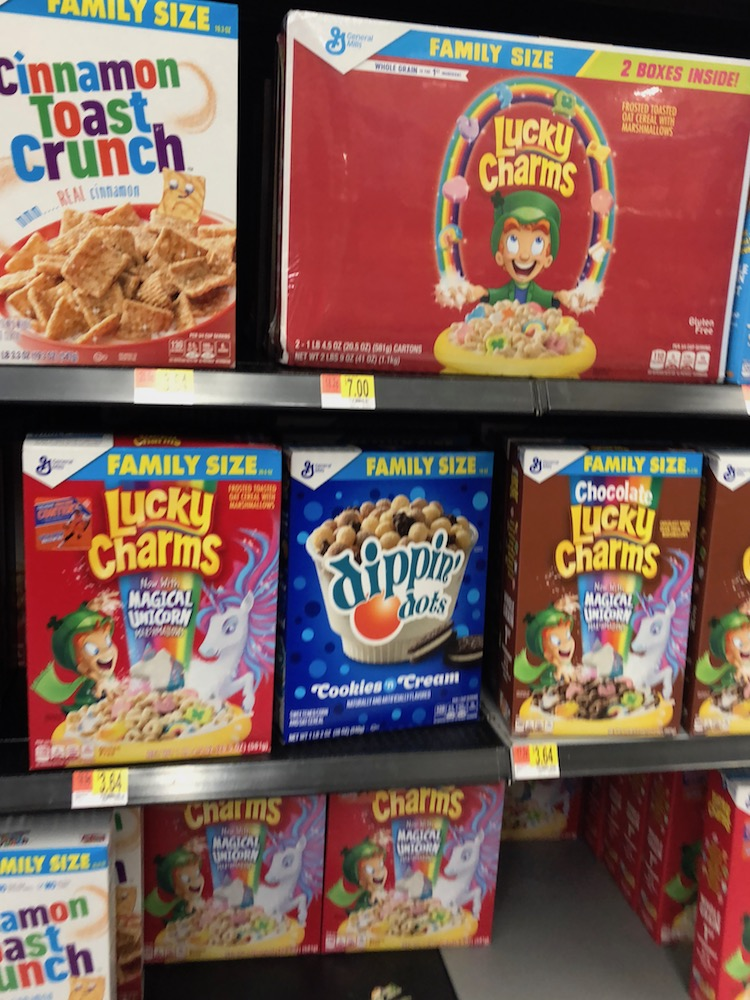Dippin Dots Cookies & Cream -568929378: (281, 462, 488, 744)
